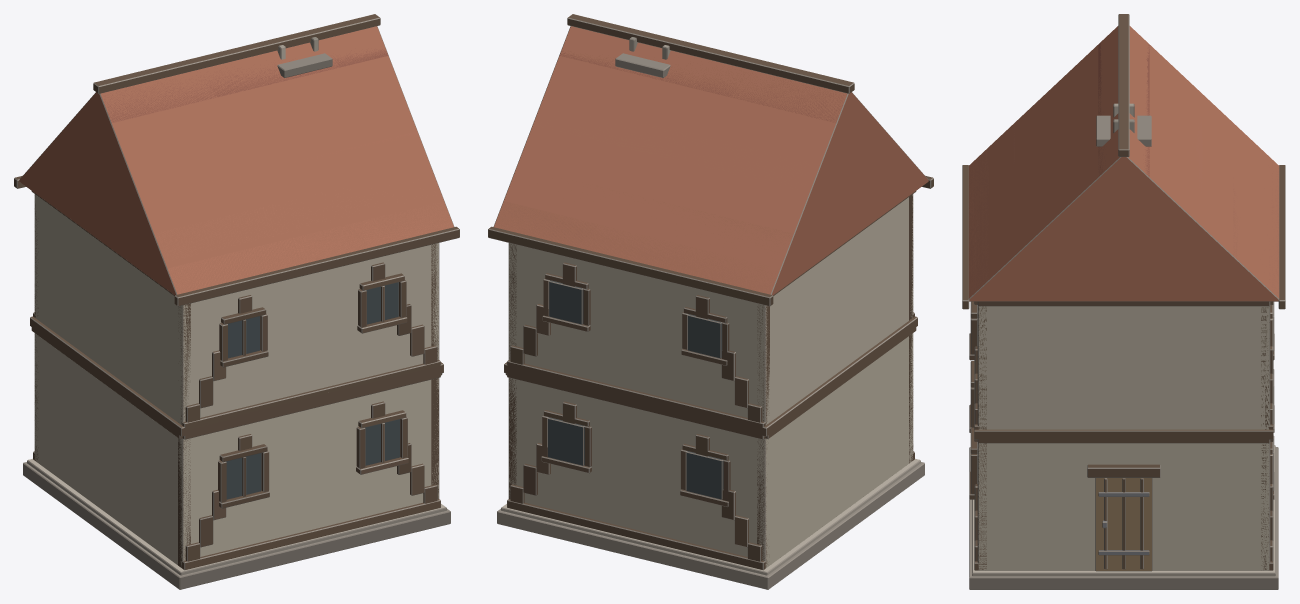
Rendered from SM_Kit_casa_f.fbx.
3 renders of one model, left to right at view 1: azimuth 30°, elevation 25°; view 2: azimuth 150°, elevation 25°; view 3: azimuth 270°, elevation 25°, orthographic.
Visible parts, largest first — view 1: SM_Kit_casa_f; view 2: SM_Kit_casa_f; view 3: SM_Kit_casa_f.
Boxes of the visible parts, x1,y1,x2,y2 form: SM_Kit_casa_f: (14,14,459,589); SM_Kit_casa_f: (488,14,933,589); SM_Kit_casa_f: (962,14,1285,589).
Size of what is drawn, in the model's own units: 638 by 970 by 642.
